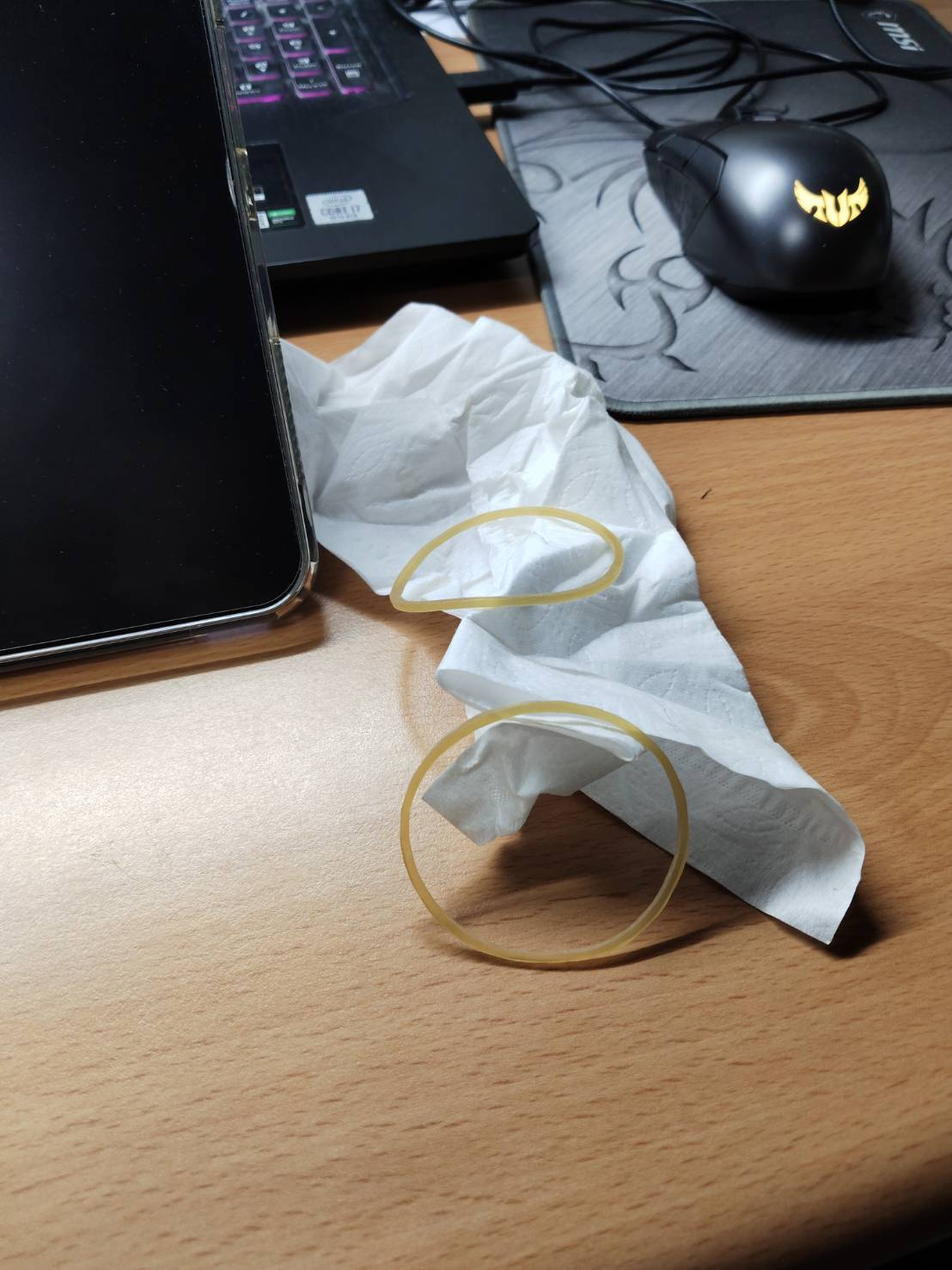General waste: (215, 261, 916, 1078)
